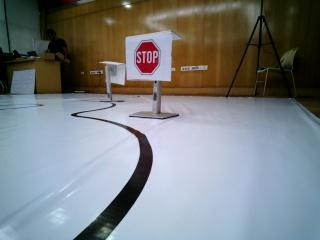stop: (123, 35, 170, 78)
